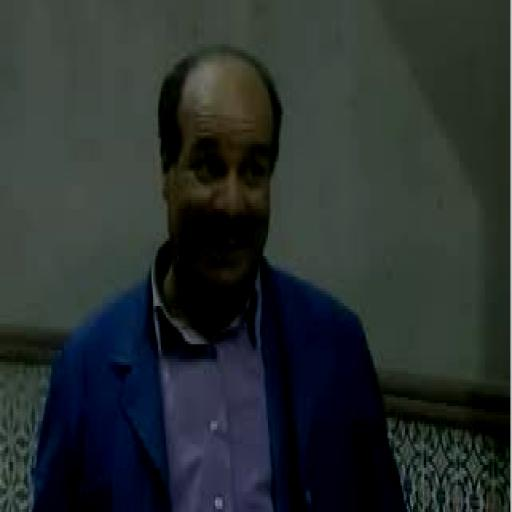beji_matrix: (160, 47, 282, 300)
